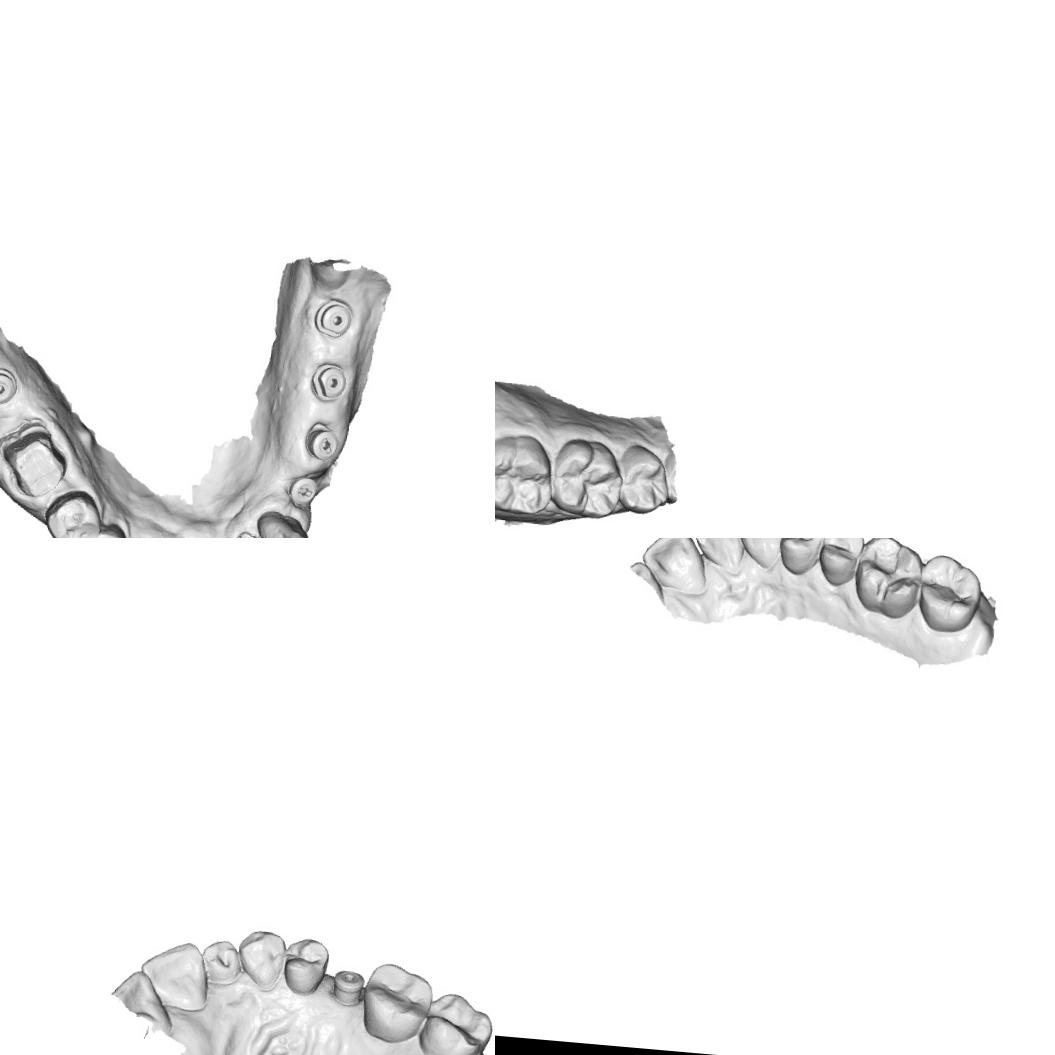canine: (235, 926, 288, 992), (251, 508, 315, 538), (732, 538, 786, 571)
crown: (0, 416, 73, 501)
implant: (306, 359, 350, 405), (310, 296, 355, 340), (328, 966, 364, 1008), (0, 363, 19, 407)
implant_minus: (302, 420, 341, 462), (286, 474, 318, 508)
incisor: (136, 936, 213, 1012), (637, 538, 710, 596), (198, 936, 244, 988), (689, 538, 744, 571)
molar: (358, 958, 435, 1046), (546, 436, 625, 521), (913, 550, 985, 636), (850, 538, 923, 621), (416, 988, 495, 1055), (495, 428, 555, 516)
premolar: (615, 442, 672, 516), (39, 484, 106, 538), (280, 936, 330, 999), (814, 538, 866, 589), (776, 538, 826, 577), (78, 521, 132, 538)
